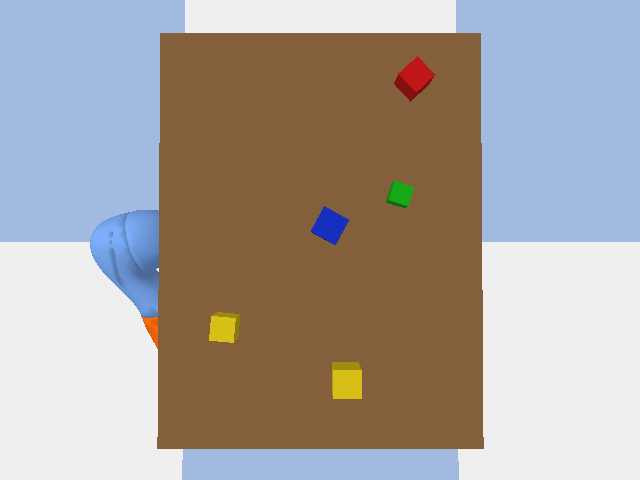blue_obj: (311, 206, 348, 244)
green_obj: (386, 181, 413, 207)
red_obj: (394, 56, 434, 101)
yellow_obj: (332, 362, 361, 398), (209, 312, 240, 342)
